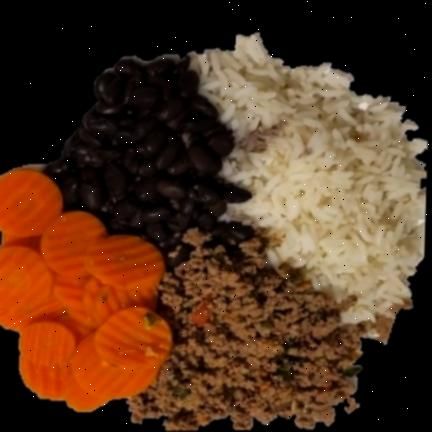beans: (40, 61, 255, 265)
carrot: (0, 171, 175, 414)
meat: (130, 238, 365, 431)
rice: (194, 35, 427, 336)
